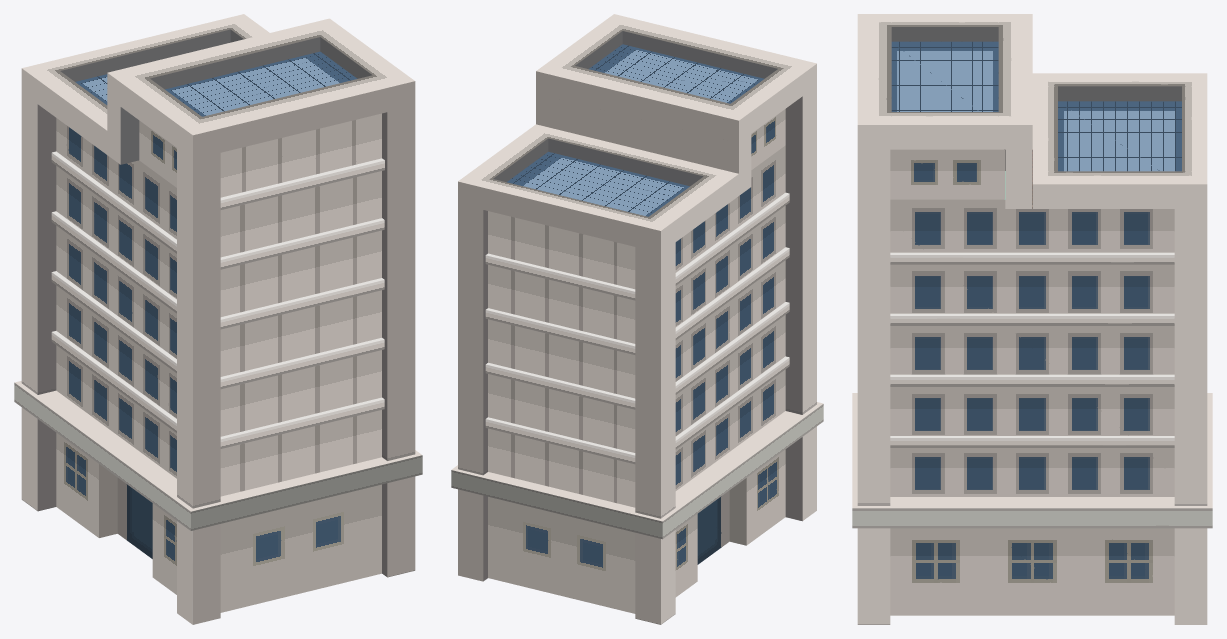
File: modern.glb
3 views of the same model, side by side, from view 1: azimuth 30°, elevation 25°; view 2: azimuth 150°, elevation 25°; view 3: azimuth 270°, elevation 25° (orthographic). The views are drawn at different scales.
Parts seen in each view (by area): view 1: Cube.003, Cube.004, Cube.014, Cube.019, Cube.020, Cube.011, Cube.002, Cube.009, Cube, Cube.012, Cube.008, Cube.005 (+6 smaller); view 2: Cube.003, Cube.004, Cube.009, Cube.014, Cube.002, Cube.020, Cube.019, Cube.010, Cube.016, Cube.013, Cube.007, Cube.008 (+5 smaller); view 3: Cube.003, Cube.014, Cube.004, Cube.009, Cube.020, Cube.011, Cube.010, Cube, Cube.005, Cube.006, Cube.007, Cube.008 (+3 smaller).
Boxes of the visible parts, x1,y1,x2,y2 form: Cube.003: (56,118,381,496); Cube.004: (107,18,415,159); Cube.014: (56,433,381,612); Cube.019: (177,148,220,508); Cube.020: (14,381,422,530); Cube.011: (382,105,415,460); Cube.002: (21,93,56,394); Cube.009: (21,14,269,154); Cube: (139,113,381,197); Cube.012: (177,521,220,624); Cube.008: (51,331,384,448); Cube.005: (51,271,384,389); Cube.003: (488,145,785,507); Cube.004: (536,14,816,142); Cube.009: (458,124,738,252); Cube.014: (488,449,785,613); Cube.002: (635,242,675,518); Cube.020: (451,402,823,539); Cube.019: (785,86,816,414); Cube.010: (458,203,487,475); Cube.016: (536,93,751,195); Cube.013: (635,530,675,624); Cube.007: (485,192,789,300); Cube.008: (485,356,789,464); Cube.003: (890,199,1174,496); Cube.014: (890,528,1174,615); Cube.004: (857,14,1032,149); Cube.009: (1032,73,1207,208); Cube.020: (852,393,1212,528); Cube.011: (857,149,890,505); Cube.010: (1174,209,1207,505); Cube: (890,149,1005,199); Cube.005: (890,374,1174,386); Cube.006: (890,313,1174,325); Cube.007: (890,252,1174,264); Cube.008: (890,436,1174,447).
Bounding box in the file's own units: 2.5 × 5.05 × 3.3.
8 materials, 8 textured.
